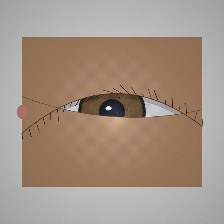hemorrhage_spot: (67, 88, 165, 166)
